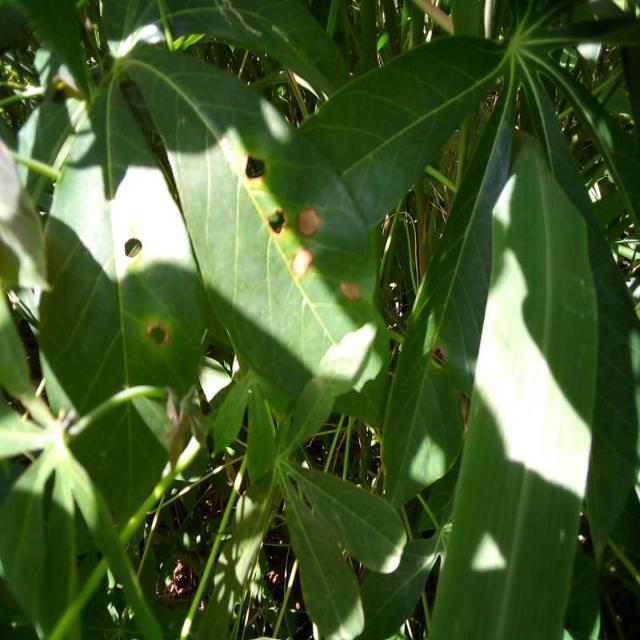cassava leaf: (4, 1, 638, 638), (114, 41, 392, 426), (427, 126, 602, 638)
